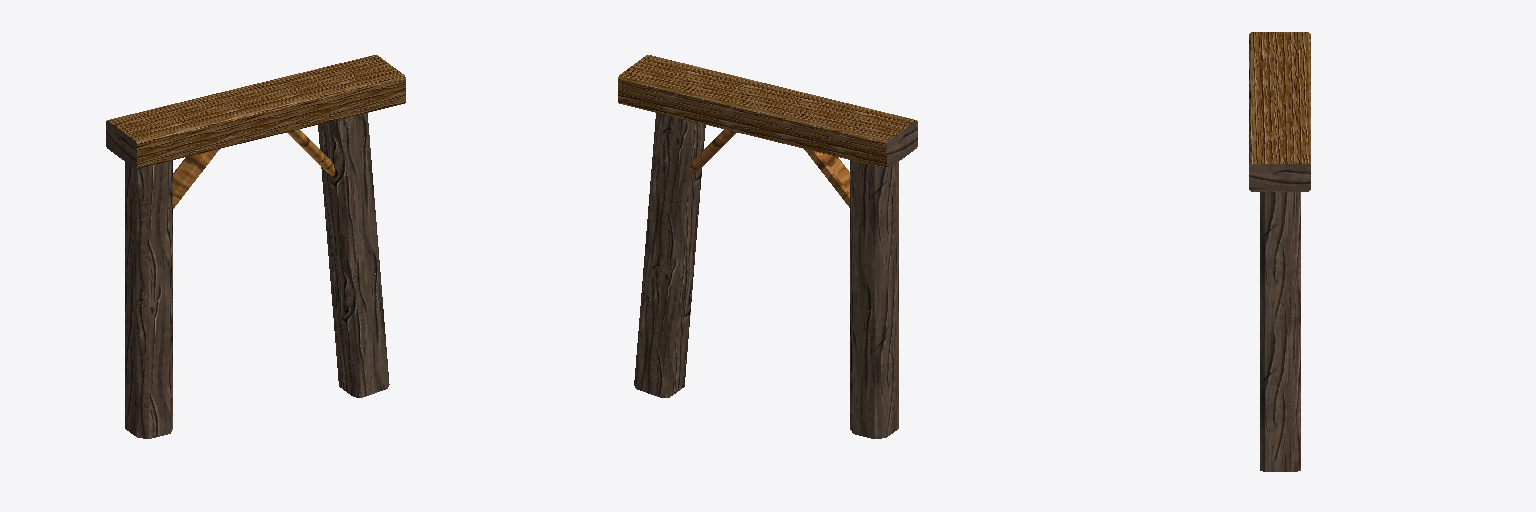
3 renders of one model, left to right at view 1: azimuth 30°, elevation 25°; view 2: azimuth 150°, elevation 25°; view 3: azimuth 270°, elevation 25°, orthographic.
Visible parts, largest first — view 1: Box002_Untitled.001; view 2: Box002_Untitled.001; view 3: Box002_Untitled.001.
Boxes of the visible parts, x1=… form: Box002_Untitled.001: x1=106, y1=55, x2=405, y2=438; Box002_Untitled.001: x1=618, y1=55, x2=917, y2=438; Box002_Untitled.001: x1=1249, y1=32, x2=1310, y2=471.
Bounding box in the file's own units: 3.81 × 4.28 × 0.762.
Materials: 1 (1 with a texture image).